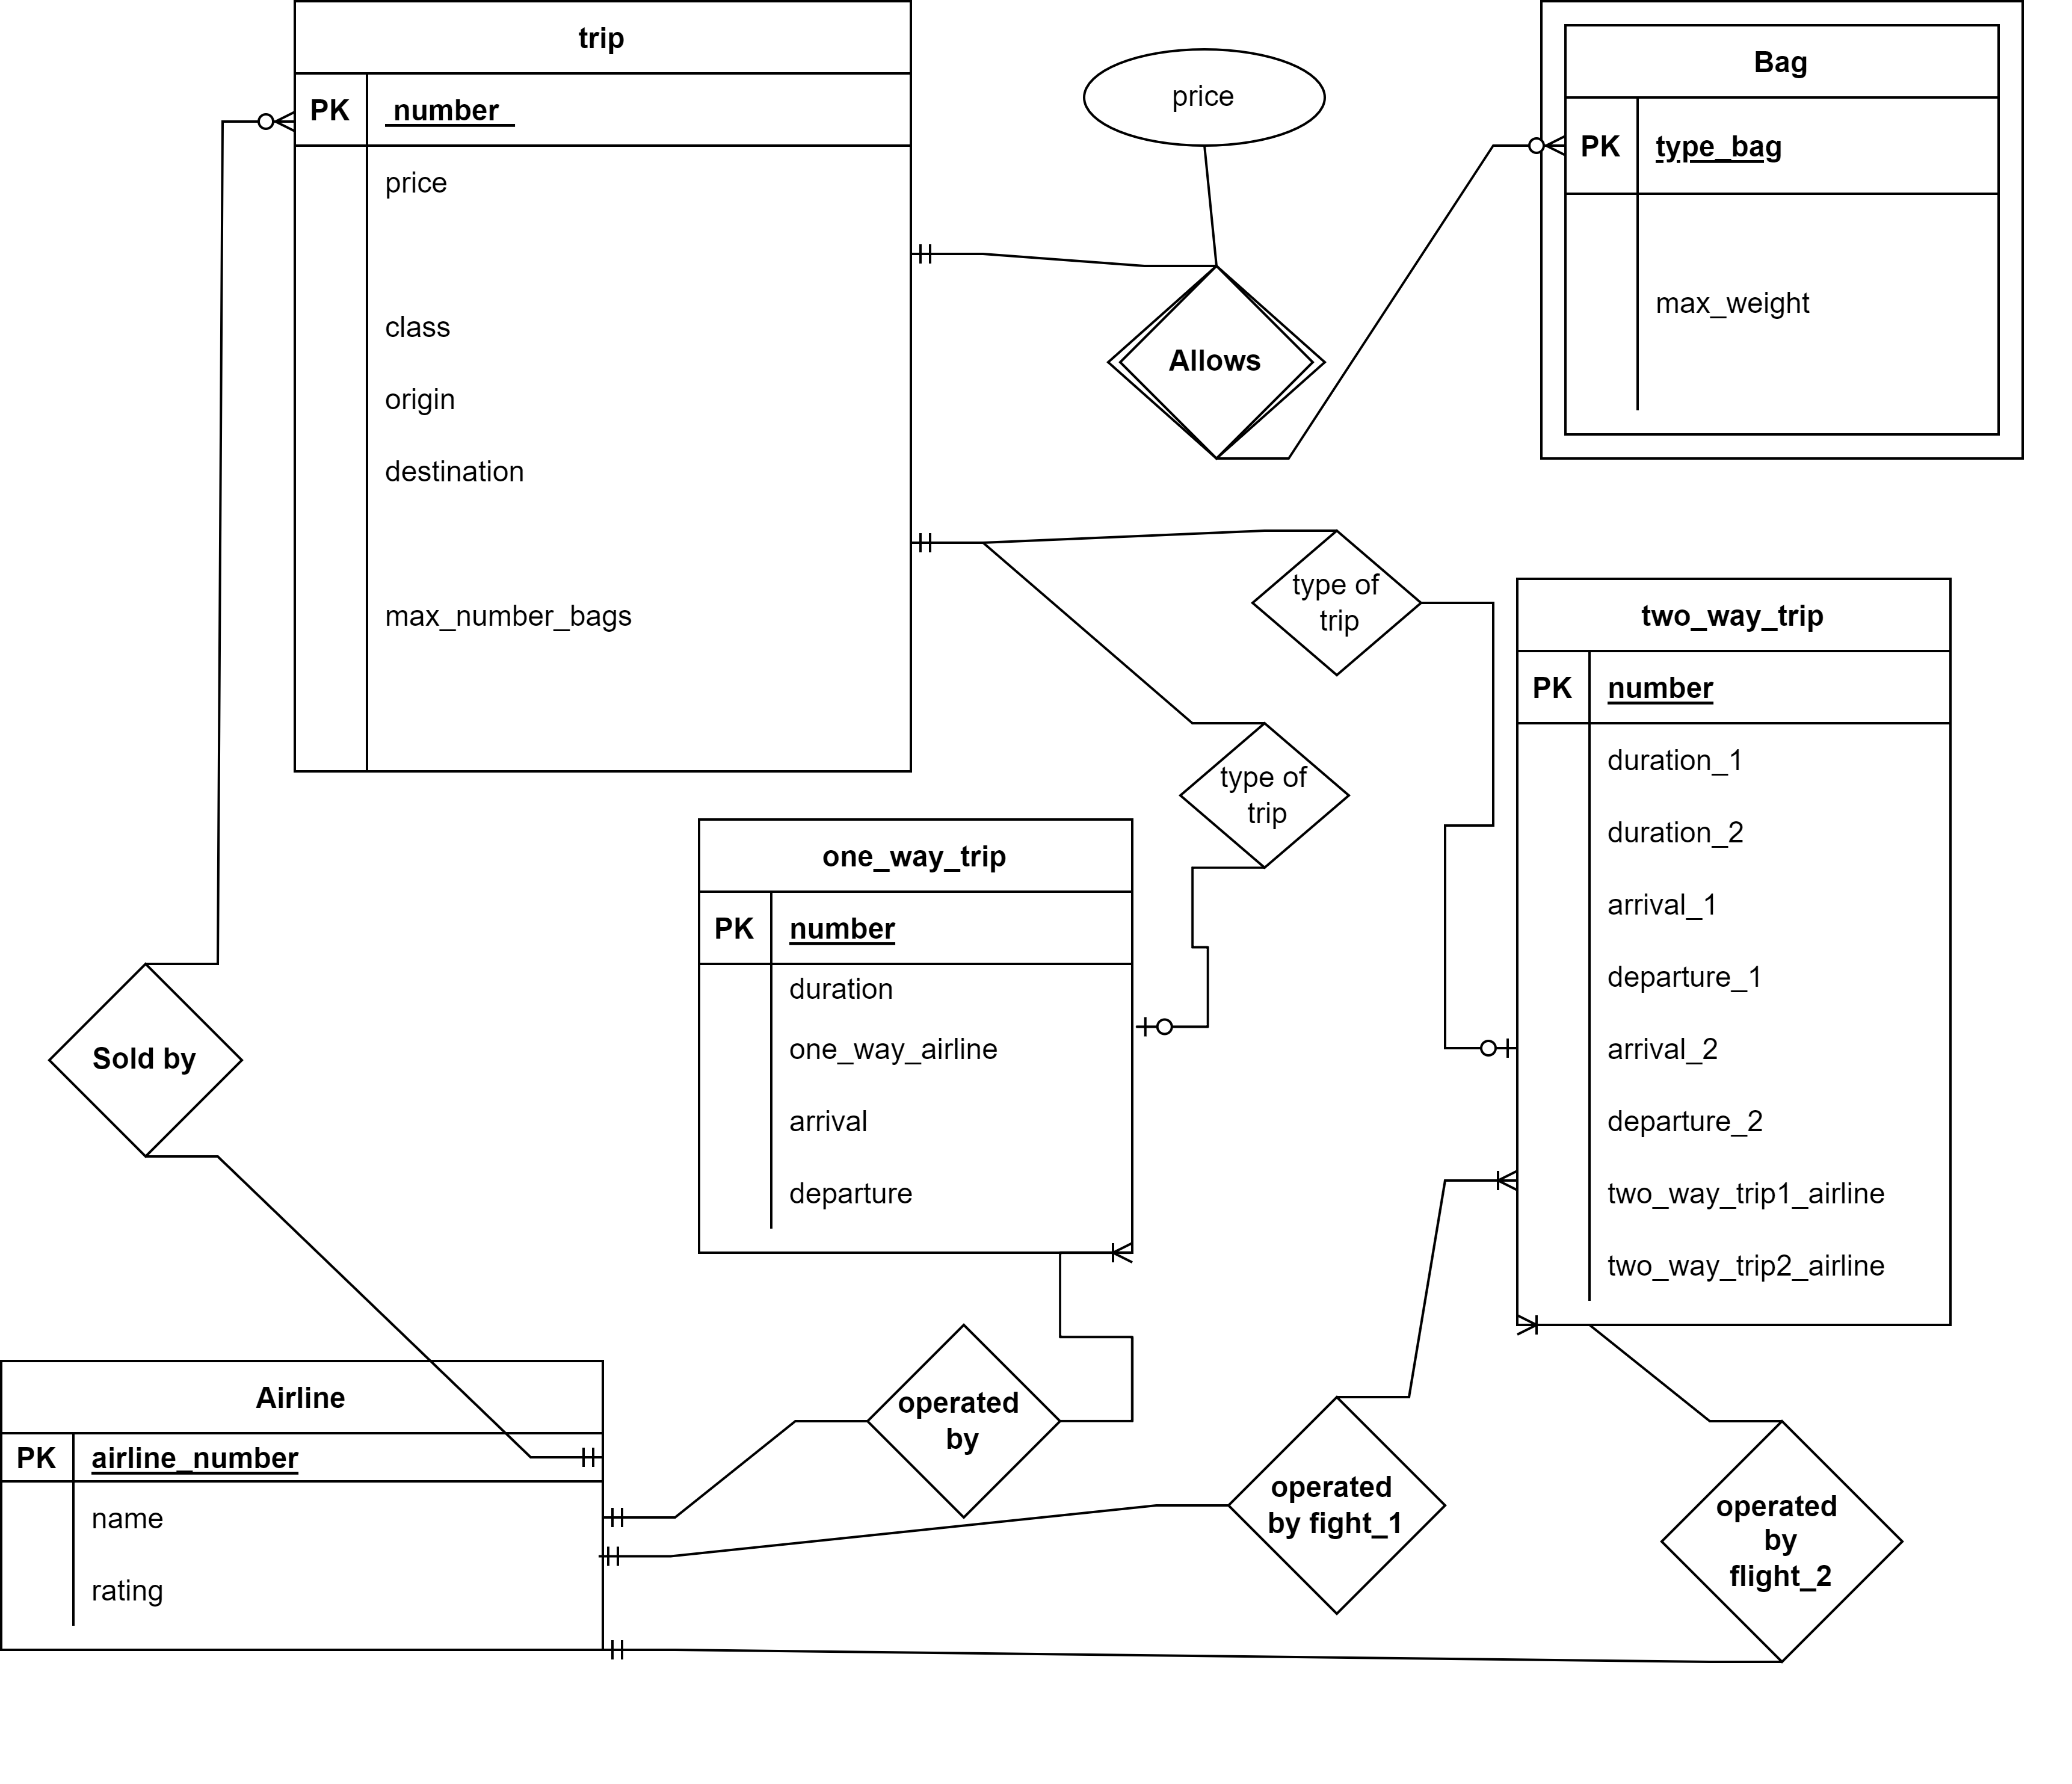entity: (296, 0, 914, 776), (1513, 576, 1954, 1329), (0, 1357, 608, 1655)
ident_rel: (1108, 266, 1330, 460)
many: (1491, 132, 1570, 162), (222, 108, 294, 139), (1515, 1310, 1595, 1338), (1447, 1167, 1517, 1195), (1059, 1241, 1135, 1266)
one: (1133, 1014, 1207, 1038), (603, 1544, 677, 1569), (913, 242, 980, 268), (1445, 1038, 1519, 1061), (603, 1639, 677, 1662), (532, 1447, 599, 1470), (604, 1507, 677, 1527), (911, 531, 967, 555)
rel: (1660, 1423, 1903, 1661), (1228, 1394, 1447, 1615), (46, 961, 241, 1162), (867, 1322, 1059, 1523), (1182, 725, 1351, 873), (1253, 532, 1420, 679)
rel_attr: (1082, 44, 1328, 143)
weak_entity: (1543, 2, 2026, 460)
